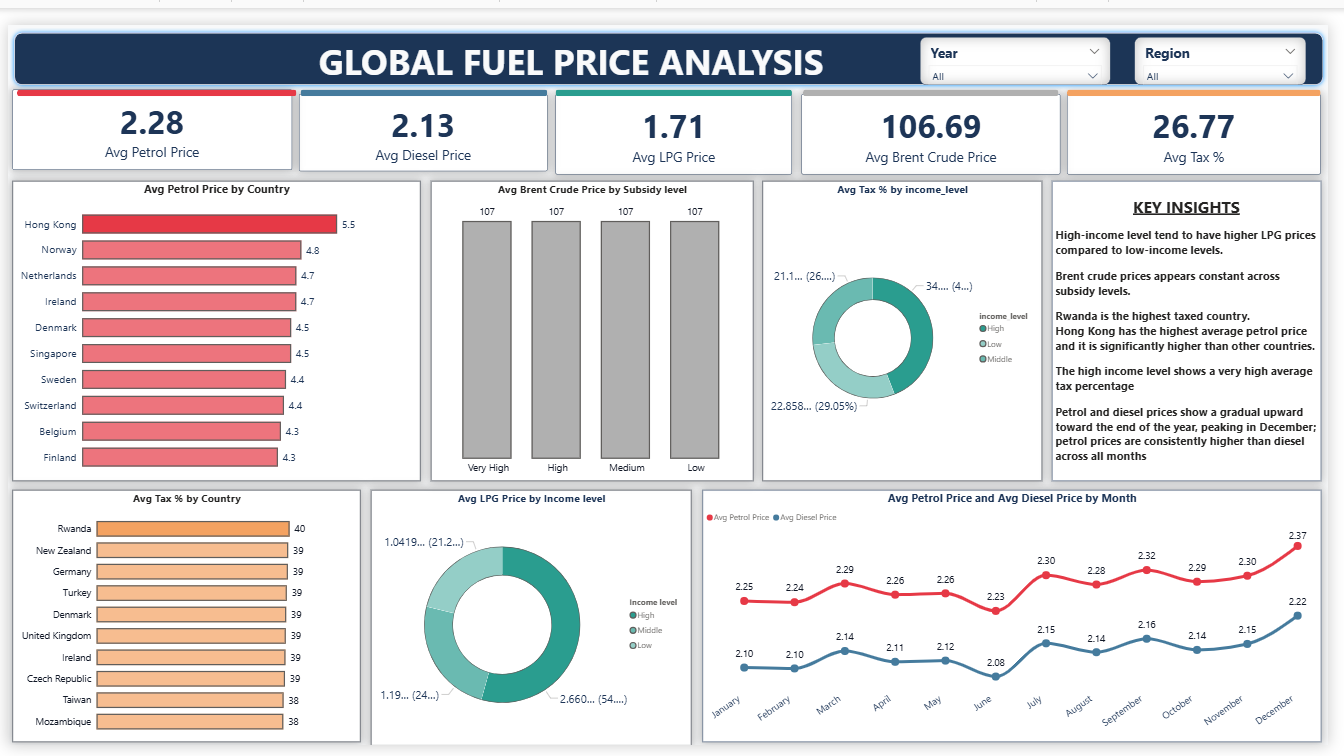

The page's visual inventory and layout, read from the dashboard file:
{"tool":"powerbi","page":{"name":"Page 1","canvas":[2200,1200],"ordinal":0},"visuals":[{"type":"card","fields":{"Values":["Global_fuel_prices_202_2026.Avg Tax %"]},"box":[1765.7,114.3,422.9,134.3],"z":0},{"type":"card","fields":{"Values":["Global_fuel_prices_202_2026.Avg Brent Crude Price"]},"box":[1322.9,114.3,431.4,134.3],"z":1000},{"type":"card","fields":{"Values":["Global_fuel_prices_202_2026.Avg LPG Price"]},"box":[911.4,114.3,394.3,134.3],"z":2000},{"type":"card","fields":{"Values":["Global_fuel_prices_202_2026.Avg Diesel Price"]},"box":[485.7,114.3,414.3,128.6],"z":3000},{"type":"card","fields":{"Values":["Global_fuel_prices_202_2026.Avg Petrol Price"]},"box":[8.6,108.6,465.7,134.3],"z":4000},{"type":"shape","box":[2.9,5.7,2197.1,102.9],"z":5000},{"type":"lineChart","fields":{"Category":["Global_fuel_prices_202_2026.date.Variation.Date Hierarchy.Month"],"Y":["Global_fuel_prices_202_2026.Avg Petrol Price","Global_fuel_prices_202_2026.Avg Diesel Price"]},"box":[1157.1,774.3,1031.4,420],"z":6000},{"type":"barChart","fields":{"Category":["Global_fuel_prices_202_2026.country"],"Y":["Global_fuel_prices_202_2026.Avg Petrol Price"]},"box":[8.6,260,680,500],"z":7000},{"type":"donutChart","fields":{"Category":["Global_fuel_prices_202_2026.income_level"],"Y":["Global_fuel_prices_202_2026.Avg Tax %"]},"box":[1257.1,260,465.7,500],"z":8000},{"type":"donutChart","fields":{"Category":["Global_fuel_prices_202_2026.income_level"],"Y":["Global_fuel_prices_202_2026.Avg LPG Price"]},"box":[605.7,774.3,534.3,425.7],"z":9000},{"type":"columnChart","fields":{"Category":["Global_fuel_prices_202_2026.subsidy_level"],"Y":["Global_fuel_prices_202_2026.Avg Brent Crude Price"]},"box":[705.7,260,537.1,500],"z":10000},{"type":"barChart","fields":{"Category":["Global_fuel_prices_202_2026.country"],"Y":["Global_fuel_prices_202_2026.Avg Tax %"]},"box":[8.6,774.3,580,420],"z":11000},{"type":"textbox","box":[0,14.3,1877.1,88.6],"z":12000},{"type":"slicer","fields":{"Values":["Global_fuel_prices_202_2026.date.Variation.Date Hierarchy.Year"]},"box":[1520,20,317.1,80],"z":13000},{"type":"textbox","box":[1740,260,448.6,500],"z":14000},{"type":"slicer","fields":{"Values":["Global_fuel_prices_202_2026.region"]},"box":[1877.1,20,285.7,80],"z":15000},{"type":"shape","box":[14.3,108.6,465.7,11.4],"z":16000},{"type":"shape","box":[488.6,108.6,411.4,11.4],"z":17000},{"type":"shape","box":[911.4,108.6,394.3,11.4],"z":18000},{"type":"shape","box":[1325.7,108.6,425.7,11.4],"z":19000},{"type":"shape","box":[1765.7,108.6,422.9,11.4],"z":20000}]}

Visuals, with their boxes in screenshot pixels (x1, y1, x2, y2):
card - Global_fuel_prices_202_2026.Avg Tax %: pyautogui.locateOnScreen(1067, 90, 1322, 171)
card - Global_fuel_prices_202_2026.Avg Brent Crude Price: pyautogui.locateOnScreen(800, 90, 1060, 171)
card - Global_fuel_prices_202_2026.Avg LPG Price: pyautogui.locateOnScreen(553, 90, 790, 171)
card - Global_fuel_prices_202_2026.Avg Diesel Price: pyautogui.locateOnScreen(296, 90, 546, 167)
card - Global_fuel_prices_202_2026.Avg Petrol Price: pyautogui.locateOnScreen(9, 86, 289, 167)
shape: pyautogui.locateOnScreen(5, 24, 1329, 86)
lineChart - Global_fuel_prices_202_2026.date.Variation.Date Hierarchy.Month x Global_fuel_prices_202_2026.Avg Petrol Price: pyautogui.locateOnScreen(701, 487, 1322, 741)
barChart - Global_fuel_prices_202_2026.country x Global_fuel_prices_202_2026.Avg Petrol Price: pyautogui.locateOnScreen(9, 178, 418, 479)
donutChart - Global_fuel_prices_202_2026.income_level x Global_fuel_prices_202_2026.Avg Tax %: pyautogui.locateOnScreen(761, 178, 1041, 479)
donutChart - Global_fuel_prices_202_2026.income_level x Global_fuel_prices_202_2026.Avg LPG Price: pyautogui.locateOnScreen(368, 487, 690, 744)
columnChart - Global_fuel_prices_202_2026.subsidy_level x Global_fuel_prices_202_2026.Avg Brent Crude Price: pyautogui.locateOnScreen(429, 178, 752, 479)
barChart - Global_fuel_prices_202_2026.country x Global_fuel_prices_202_2026.Avg Tax %: pyautogui.locateOnScreen(9, 487, 358, 741)
textbox: pyautogui.locateOnScreen(4, 30, 1134, 83)
slicer - Global_fuel_prices_202_2026.date.Variation.Date Hierarchy.Year: pyautogui.locateOnScreen(919, 33, 1110, 81)
textbox: pyautogui.locateOnScreen(1052, 178, 1322, 479)
slicer - Global_fuel_prices_202_2026.region: pyautogui.locateOnScreen(1134, 33, 1307, 81)
shape: pyautogui.locateOnScreen(12, 86, 293, 93)
shape: pyautogui.locateOnScreen(298, 86, 546, 93)
shape: pyautogui.locateOnScreen(553, 86, 790, 93)
shape: pyautogui.locateOnScreen(802, 86, 1059, 93)
shape: pyautogui.locateOnScreen(1067, 86, 1322, 93)
